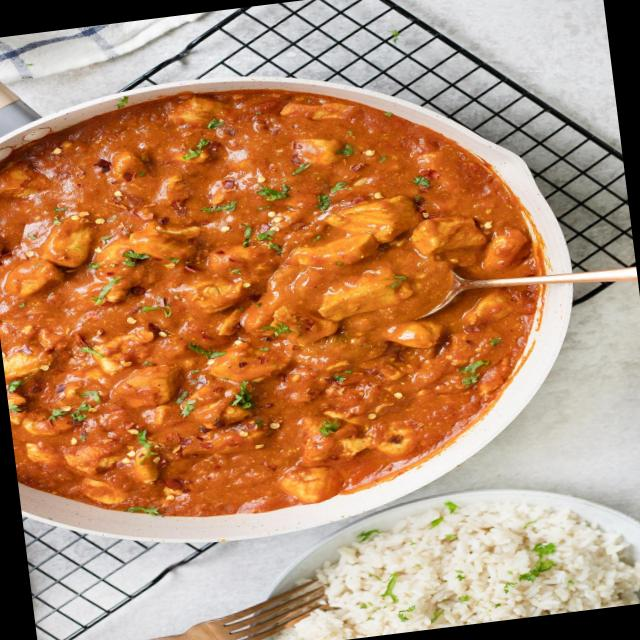chicken: (0, 81, 525, 542)
rice: (279, 484, 640, 640)
